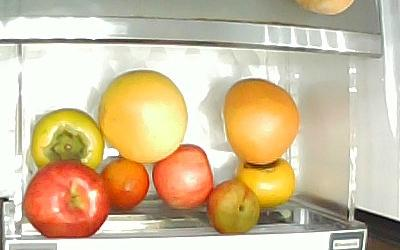apple: (22, 159, 110, 239), (152, 143, 214, 211)
grapefruit: (98, 69, 190, 161), (224, 77, 301, 165)
persimmon: (31, 109, 105, 171), (234, 157, 296, 206)
prune: (100, 156, 149, 210)
